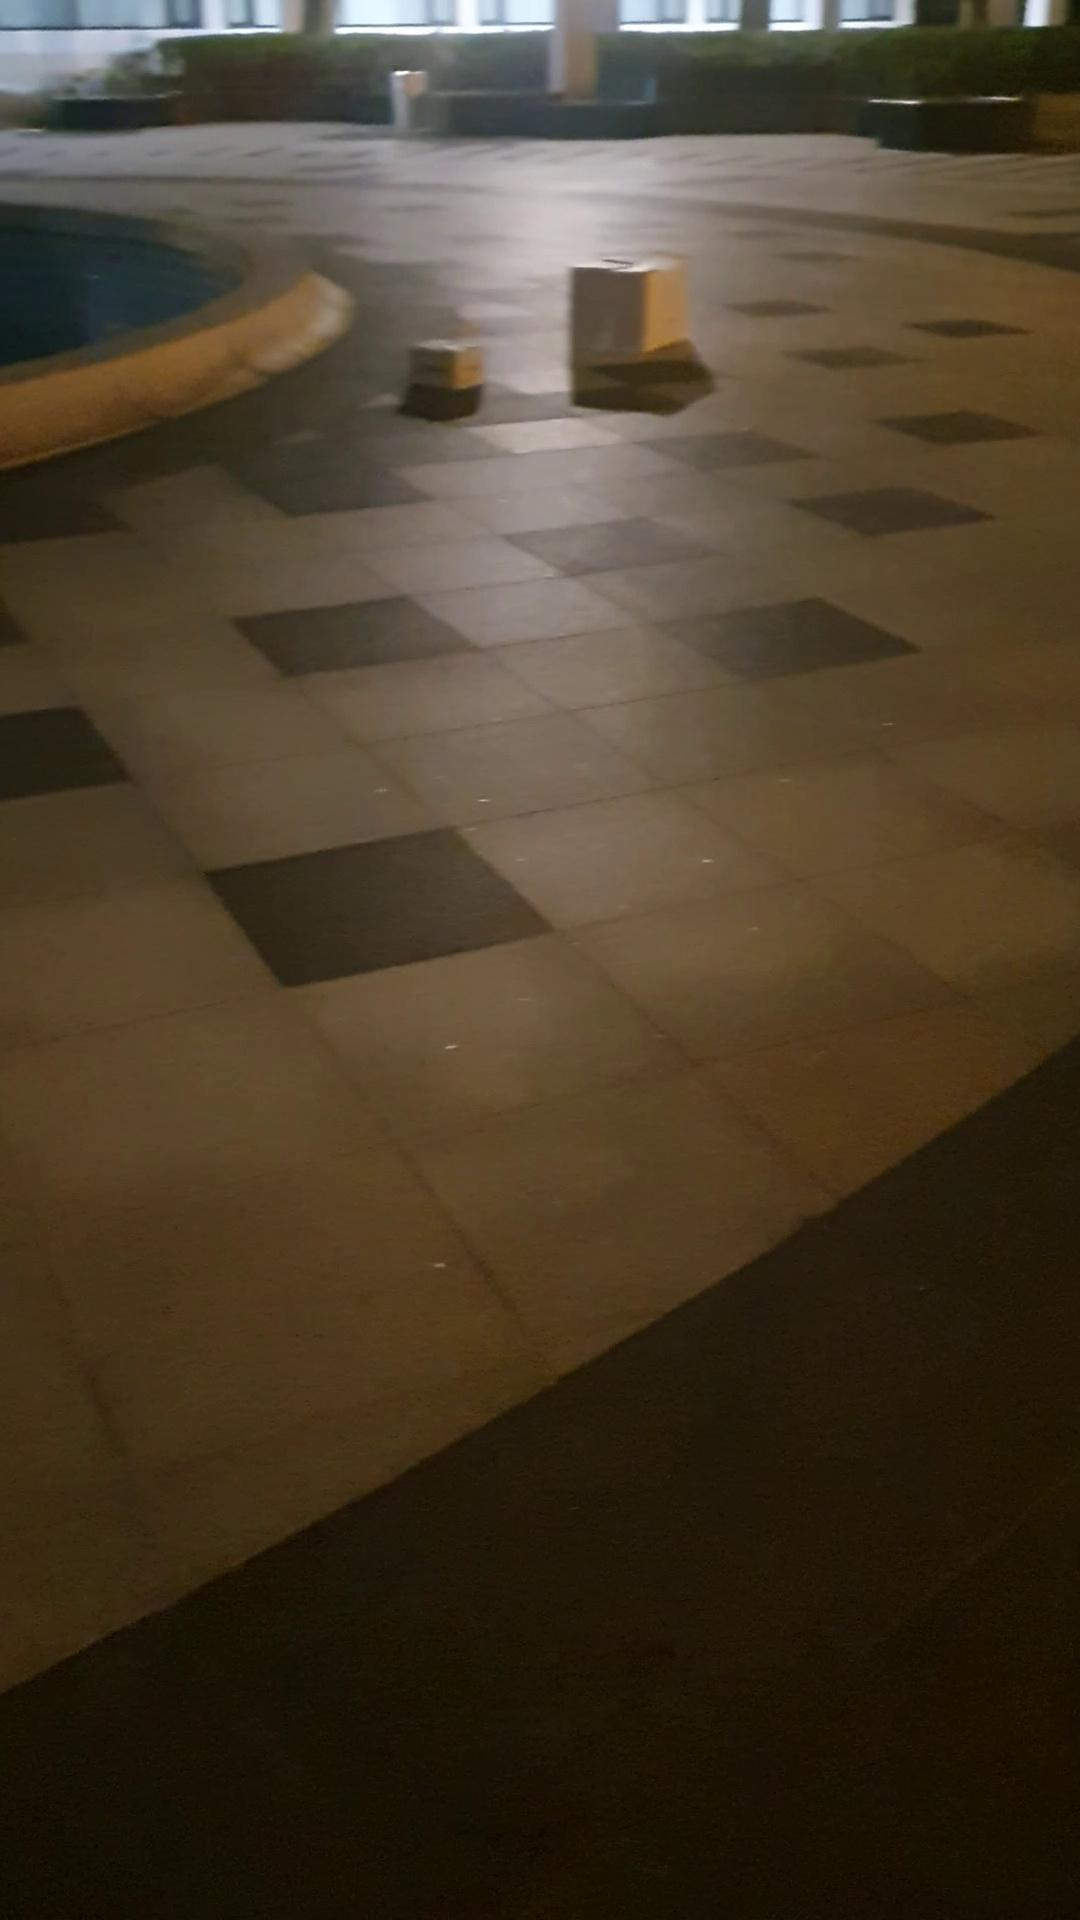Box: (549, 253, 702, 375), (407, 334, 477, 388)
